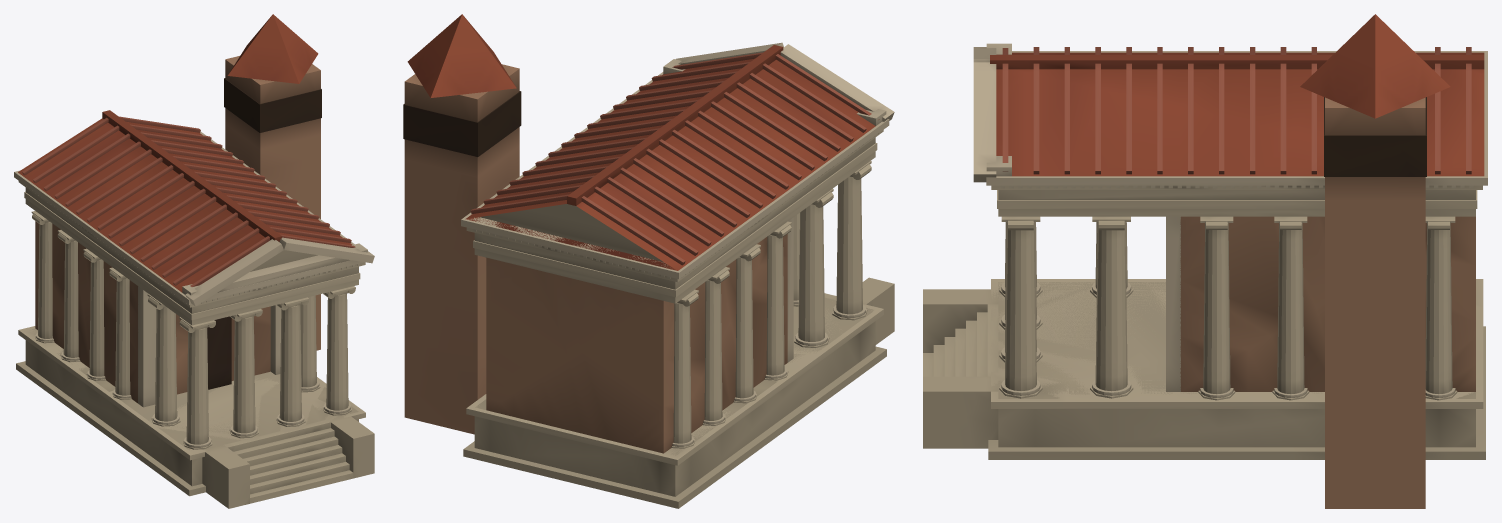
The model's file is temple-of-portunus-church.glb.
3 renders of one model, left to right at view 1: azimuth 30°, elevation 25°; view 2: azimuth 150°, elevation 25°; view 3: azimuth 270°, elevation 25°, orthographic. The views are drawn at different scales.
Parts seen in each view (by area): view 1: p2_church, p1_columns, p0_podium; view 2: p2_church, p1_columns, p0_podium; view 3: p2_church, p0_podium, p1_columns.
Part boxes in pixels (left/top/right/bottom): p2_church: left=14, top=14, right=374, bottom=350; p1_columns: left=31, top=211, right=355, bottom=449; p0_podium: left=16, top=326, right=374, bottom=508; p2_church: left=403, top=14, right=894, bottom=434; p1_columns: left=485, top=161, right=871, bottom=453; p0_podium: left=463, top=277, right=894, bottom=508; p2_church: left=973, top=14, right=1487, bottom=508; p0_podium: left=923, top=279, right=1485, bottom=459; p1_columns: left=999, top=216, right=1475, bottom=400.
Size of the model in its own units: 17.49 by 20.8 by 22.48.
